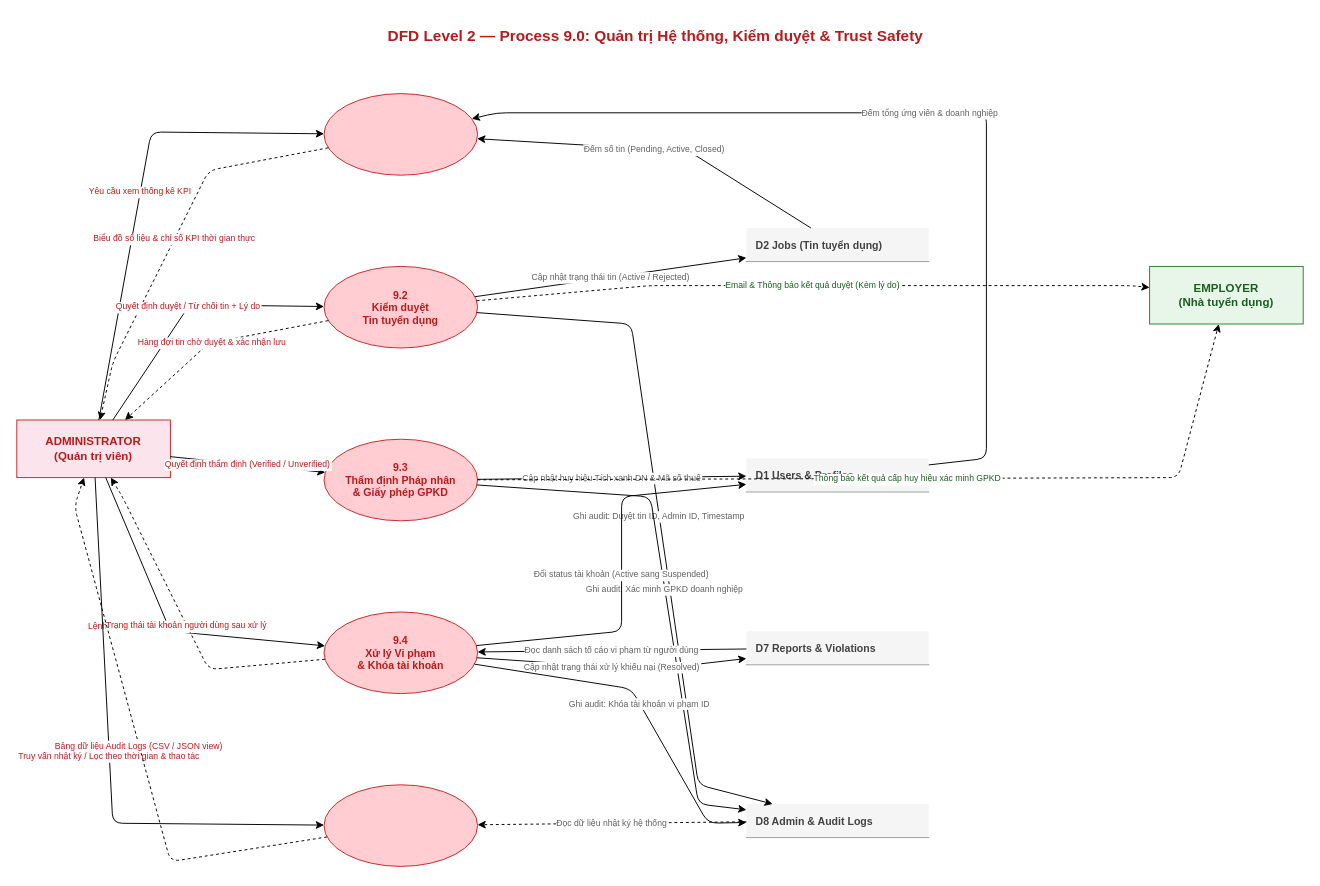
This 1320x886 diagram has some shape labels left out. The shapes that lost their labels are listed below. From the top down, each one's centre as x and y in pixels, then its label:
At (x=400, y=134): "9.1 Thống kê Dashboard & Giám sát KPI".
At (x=400, y=825): "9.5 Ghi nhận & Truy vấn Nhật ký Audit Log".
